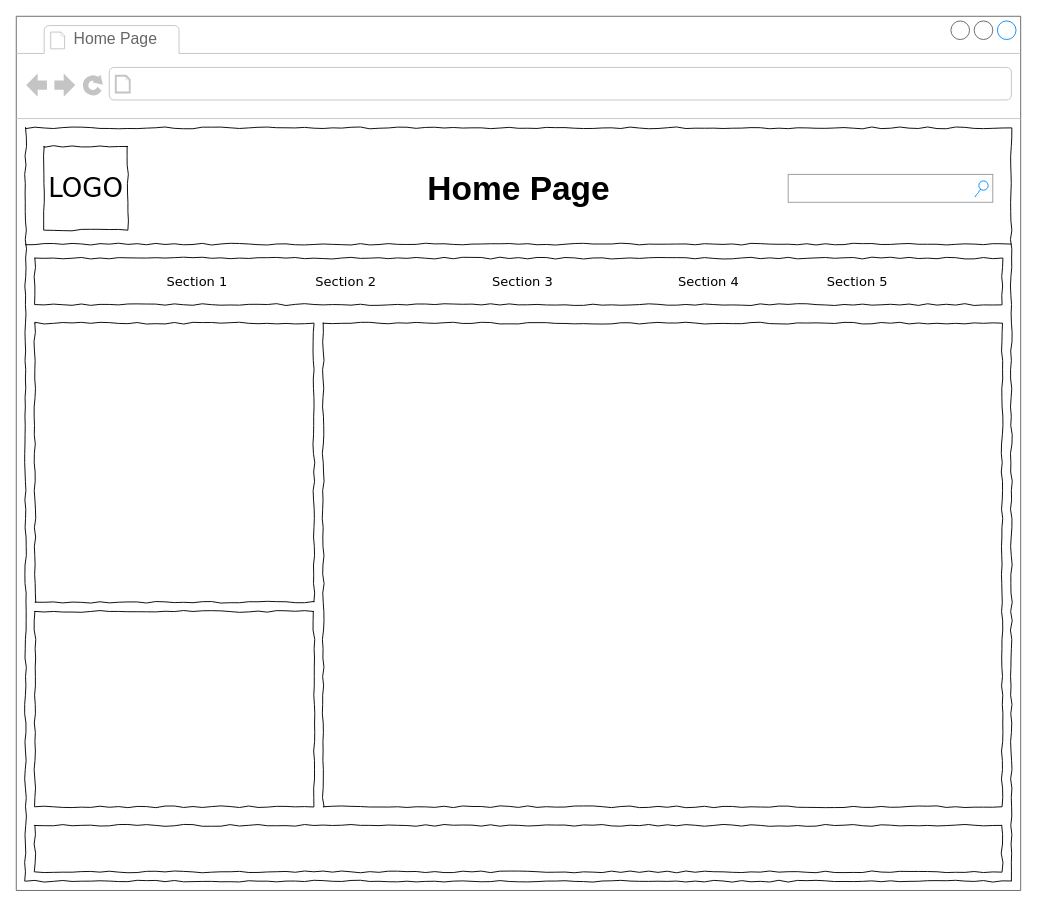
This 1037x907 diagram has some shape labels left out. The shapes that lost their labels are listed below. From the top down, each one's centre as x and y in pixels, then its label:
At (x=253, y=83): "https://nikozyl.github.io/JXU/homepage".
At (x=518, y=848): "Footer".
